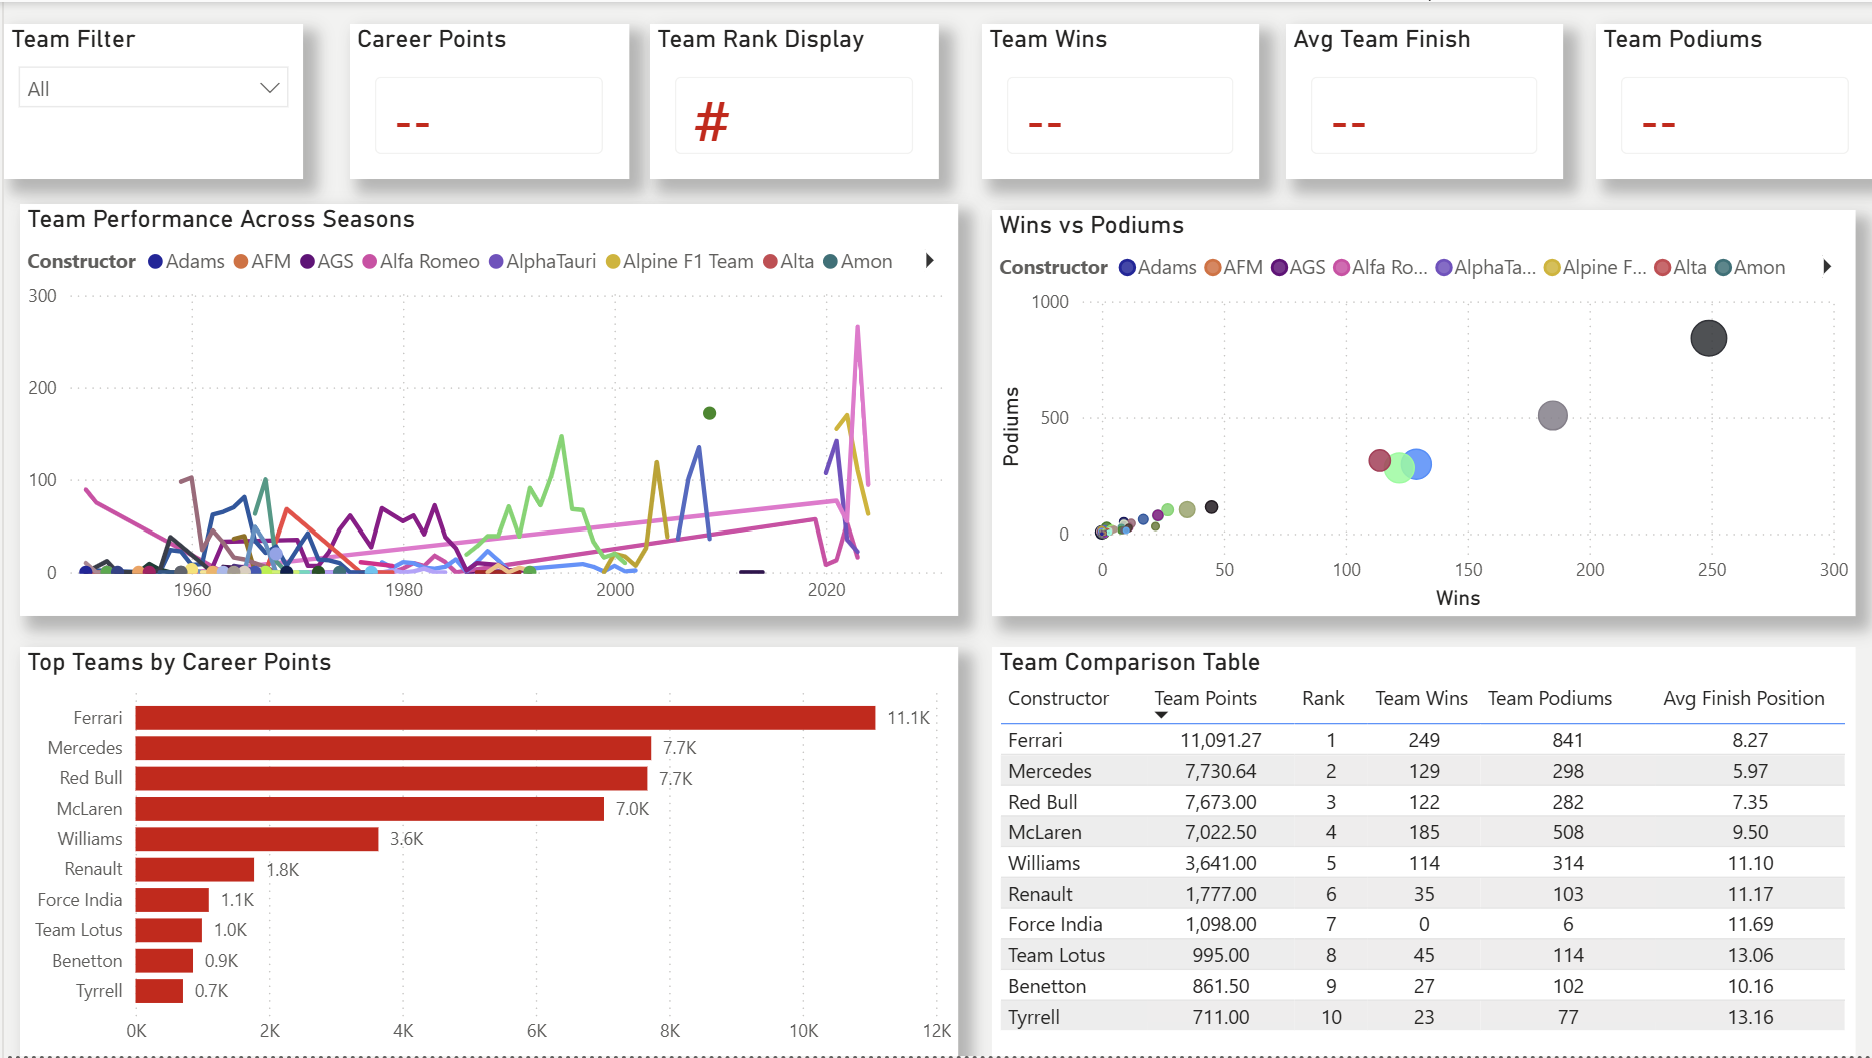

What the dashboard file says about the page in this screenshot:
{"tool":"powerbi","page":{"name":"Constructor Performance Analysis","canvas":[1280,720],"ordinal":2},"visuals":[{"type":"slicer","title":"Team Filter","fields":{"Values":["team_kpis.constructor_name"]},"box":[0,14.8,204.4,106.2],"z":0},{"type":"cardVisual","title":"Career Points","fields":{"Data":["team_kpis.Team Points"]},"box":[236.6,14.8,190.9,106.2],"z":1000},{"type":"cardVisual","title":"Team Wins","fields":{"Data":["team_kpis.Team Wins"]},"box":[668.2,14.8,189.6,106.2],"z":2000},{"type":"cardVisual","title":"Team Podiums","fields":{"Data":["team_kpis.Team Podiums"]},"box":[1089.1,14.8,190.9,106.2],"z":3000},{"type":"cardVisual","title":"Avg Team Finish","fields":{"Data":["team_kpis.Avg Team Finish"]},"box":[876.6,14.8,189.6,106.2],"z":4000},{"type":"cardVisual","title":"Team Rank Display","fields":{"Data":["team_kpis.Team Rank"]},"box":[442.4,14.8,197.6,106.2],"z":5000},{"type":"lineChart","title":"Team Performance Across Seasons","fields":{"Category":["season_team_kpis.year"],"Y":["Sum(season_team_kpis.season_points)"],"Series":["season_team_kpis.constructor_name"]},"box":[10.8,138.5,641.3,281],"z":6000},{"type":"scatterChart","title":"Wins vs Podiums","fields":{"X":["team_kpis.wins"],"Y":["team_kpis.podiums"],"Size":["team_kpis.Team Points"],"Series":["team_kpis.constructor_name"]},"box":[675,142.5,590.3,277],"z":7000},{"type":"barChart","title":"Top Teams by Career Points","fields":{"Y":["Sum(team_kpis.total_points)"],"Category":["team_kpis.constructor_name"]},"box":[10.8,439.7,641.3,281],"z":8000},{"type":"tableEx","title":"Team Comparison Table","fields":{"Values":["team_kpis.constructor_name","team_kpis.total_points","team_kpis.points_rank","team_kpis.wins","team_kpis.podiums","team_kpis.avg_finish"]},"box":[675,439.7,590.3,281],"z":9000}]}

Visuals, with their boxes in screenshot pixels (x1, y1, x2, y2), scaled from the page's 1280x720 canvas onto the 1872x1058 screenshot:
"Team Filter" slicer: box=[0, 22, 299, 178]
"Career Points" cardVisual: box=[346, 22, 625, 178]
"Team Wins" cardVisual: box=[977, 22, 1255, 178]
"Team Podiums" cardVisual: box=[1593, 22, 1871, 178]
"Avg Team Finish" cardVisual: box=[1282, 22, 1559, 178]
"Team Rank Display" cardVisual: box=[647, 22, 936, 178]
"Team Performance Across Seasons" lineChart: box=[16, 204, 954, 616]
"Wins vs Podiums" scatterChart: box=[987, 209, 1851, 616]
"Top Teams by Career Points" barChart: box=[16, 646, 954, 1057]
"Team Comparison Table" tableEx: box=[987, 646, 1851, 1057]
